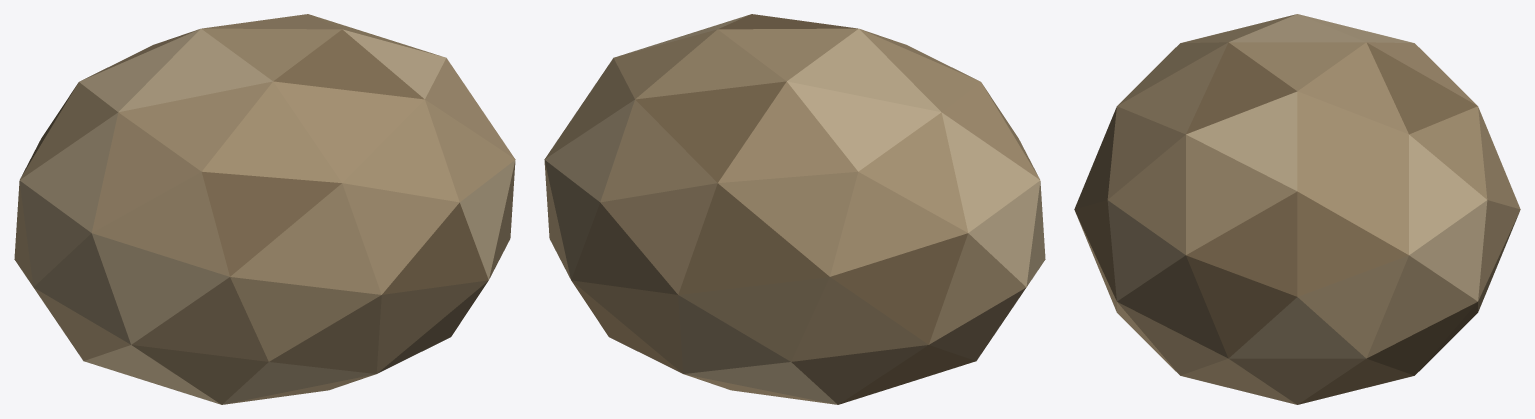
Rendered from exhibit_fossil_rock.glb.
The picture shows the model from 3 angles, left to right: view 1: azimuth 30°, elevation 25°; view 2: azimuth 150°, elevation 25°; view 3: azimuth 270°, elevation 25°; orthographic projection. The views are drawn at different scales.
Visible parts, largest first — view 1: Body; view 2: Body; view 3: Body.
Boxes of the visible parts, x1,y1,x2,y2 form: Body: (14,14,515,404); Body: (544,14,1045,404); Body: (1074,14,1520,404).
Bounding box in the file's own units: 0.2976 × 0.1981 × 0.26.
